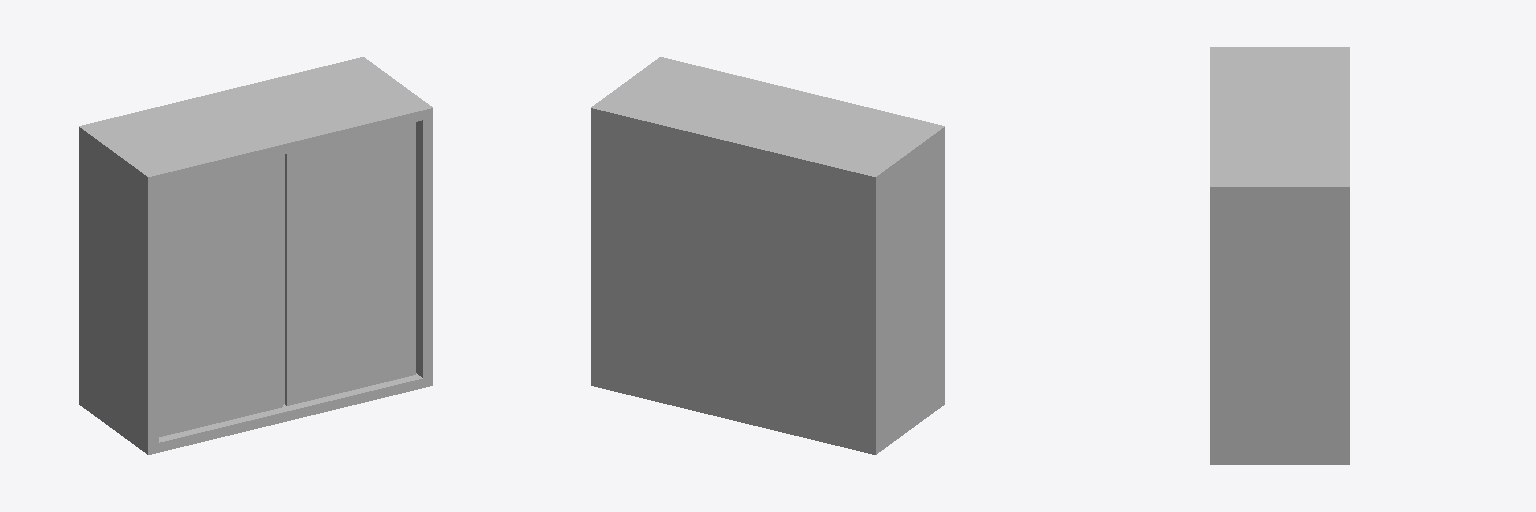
The model's file is DuzaSzafa.obj.
3 renders of one model, left to right at view 1: azimuth 30°, elevation 25°; view 2: azimuth 150°, elevation 25°; view 3: azimuth 270°, elevation 25°, orthographic.
Parts seen in each view (by area): view 1: Szafa_Cube.001; view 2: Szafa_Cube.001; view 3: Szafa_Cube.001.
Boxes of the visible parts, <box> form: Szafa_Cube.001: <box>79,57,432,454</box>; Szafa_Cube.001: <box>591,57,944,454</box>; Szafa_Cube.001: <box>1210,47,1349,464</box>.
Bounding box in the file's own units: 4.71 × 4.39 × 2.